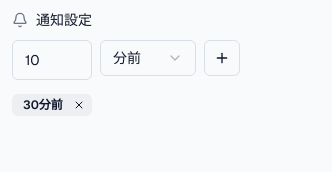
Test: NotificationField › Task 2.1: バリデーション › 重複する通知設定がある場合にエラーメッセージが表示される (Req 5.1)
Replace the text in the number field named "通知の数値" with "30" at point(52, 60), box [12,40,92,80]
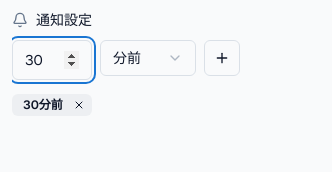
Click the button named "追加".
click(222, 58)  # box [204,40,240,76]
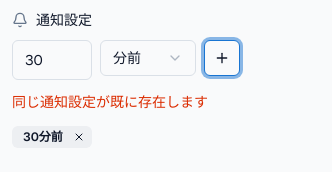
Result: the text "同じ通知設定が既に存在します" is shown at [12,93,208,111]
